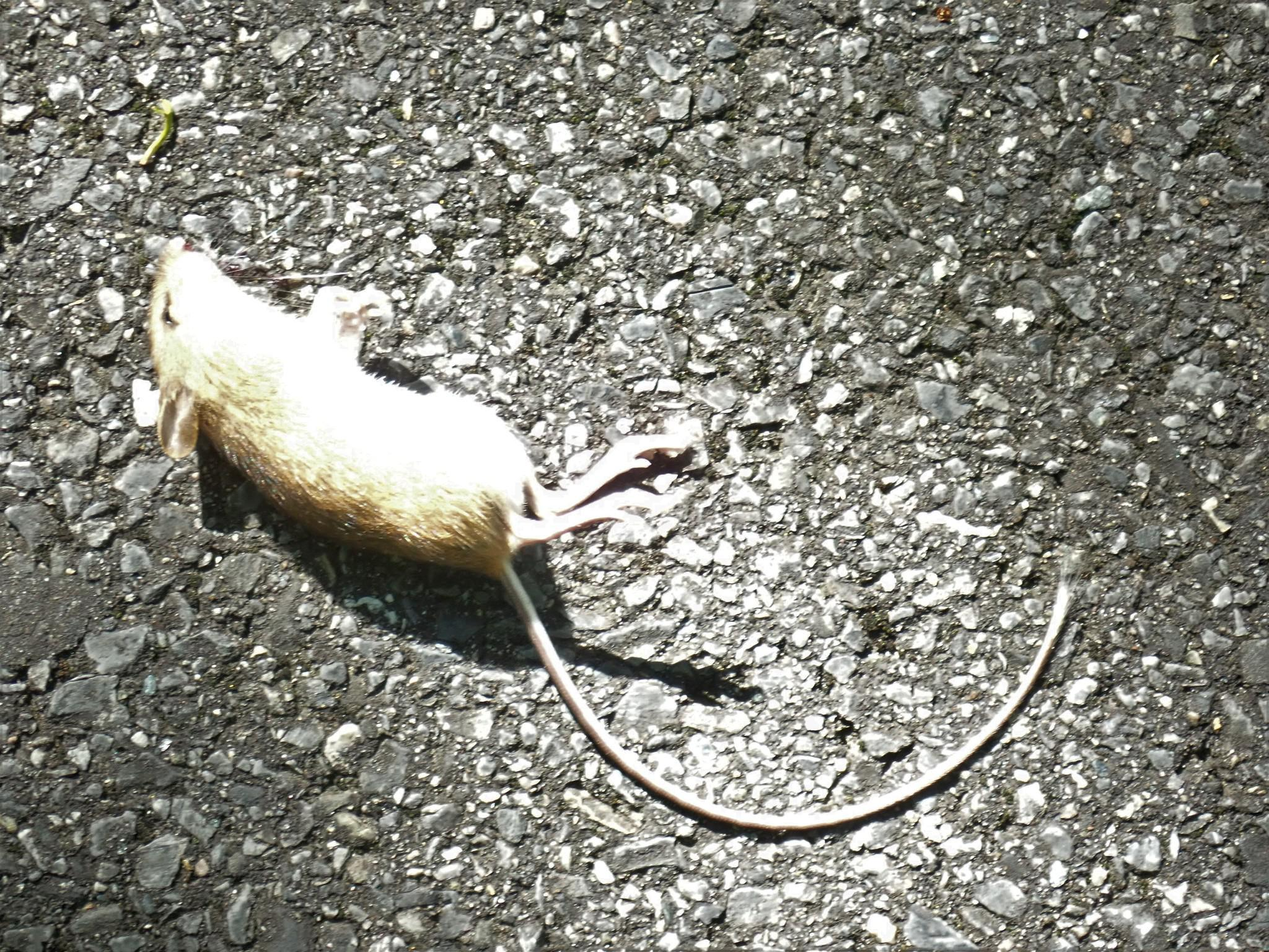rat: (150, 235, 1070, 835)
